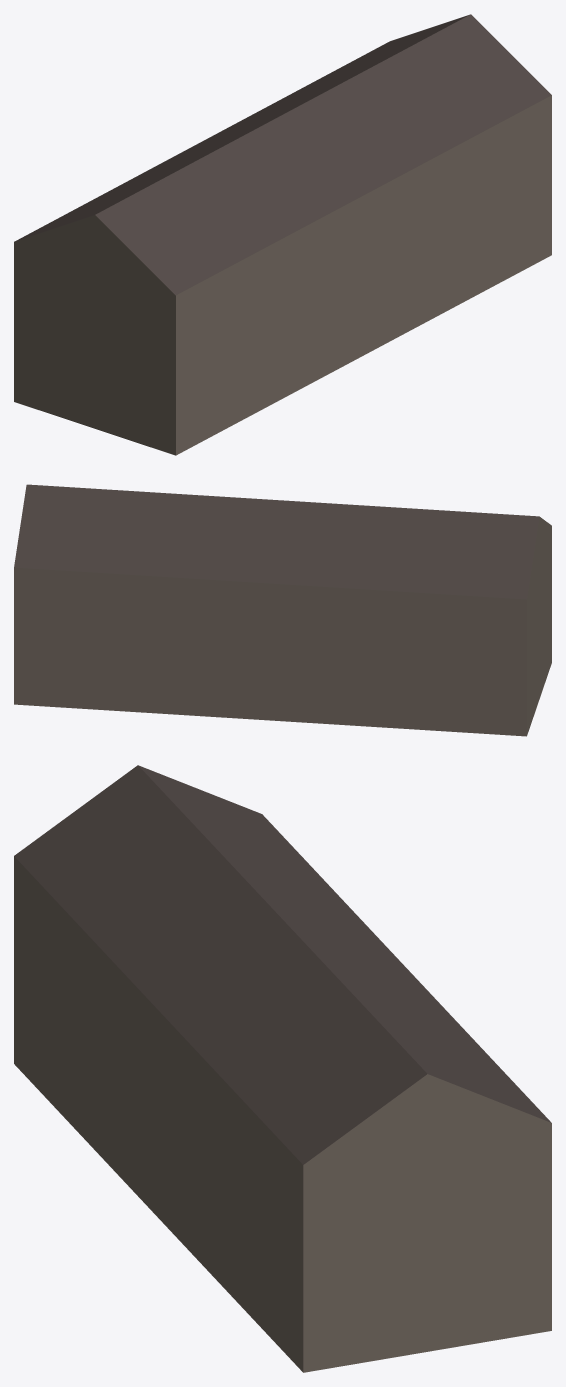
3 renders of one model, top to bottom at view 1: azimuth 30°, elevation 25°; view 2: azimuth 150°, elevation 25°; view 3: azimuth 270°, elevation 25°, orthographic. The views are drawn at different scales.
Visible parts, largest first — view 1: HP-w369317469; view 2: HP-w369317469; view 3: HP-w369317469.
Part boxes in pixels (x1,y1,x2,y2): HP-w369317469: (14, 14, 551, 455); HP-w369317469: (14, 484, 551, 736); HP-w369317469: (14, 765, 551, 1372).
Size of the model in its own units: 21.73 by 8.02 by 14.08.
